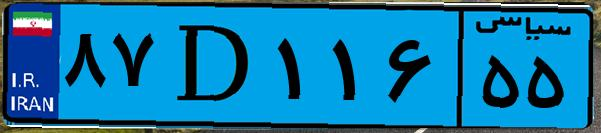1: (270, 28, 330, 110), (330, 28, 385, 110)
5: (475, 38, 525, 113), (525, 38, 570, 115)
6: (385, 28, 445, 110)
7: (110, 28, 158, 98)
8: (57, 26, 110, 100)
D: (158, 12, 270, 120)
